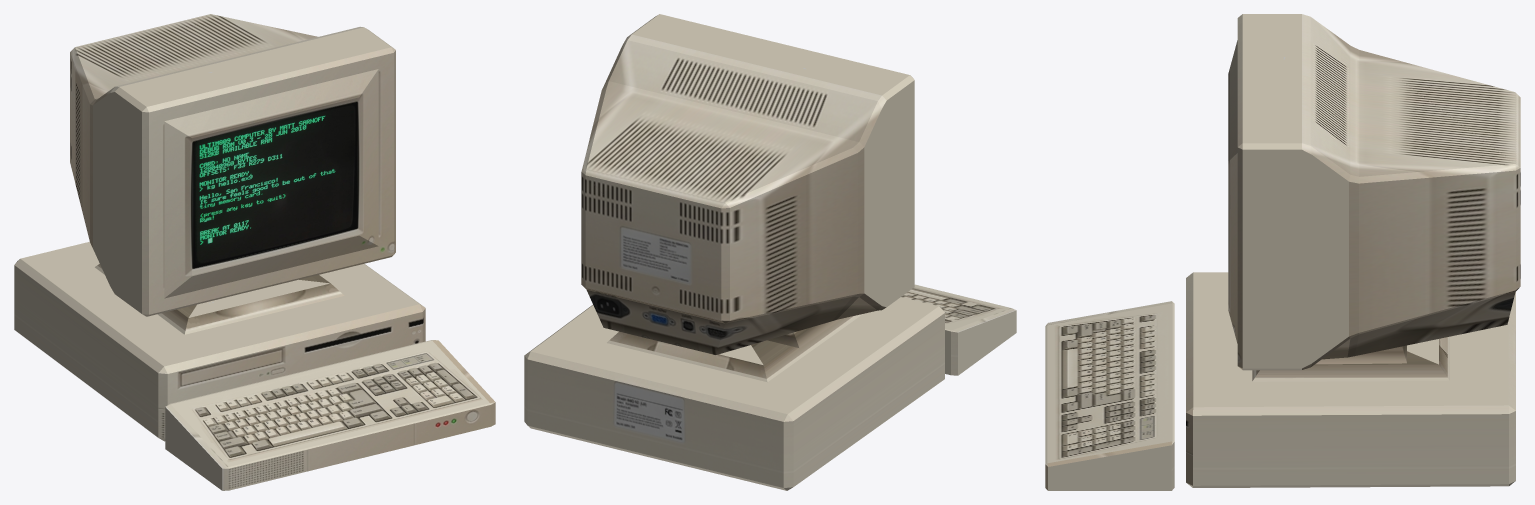
The model's file is Compu.fbx.
3 renders of one model, left to right at view 1: azimuth 30°, elevation 25°; view 2: azimuth 150°, elevation 25°; view 3: azimuth 270°, elevation 25°, orthographic. The views are drawn at different scales.
Parts seen in each view (by area): view 1: Compu; view 2: Compu; view 3: Compu.
Boxes of the visible parts, left/top/right/bottom form: Compu: left=14, top=14, right=495, bottom=490; Compu: left=524, top=14, right=1016, bottom=490; Compu: left=1045, top=14, right=1520, bottom=490.
Size of the model in its own units: 49.22 by 54.49 by 68.59.
